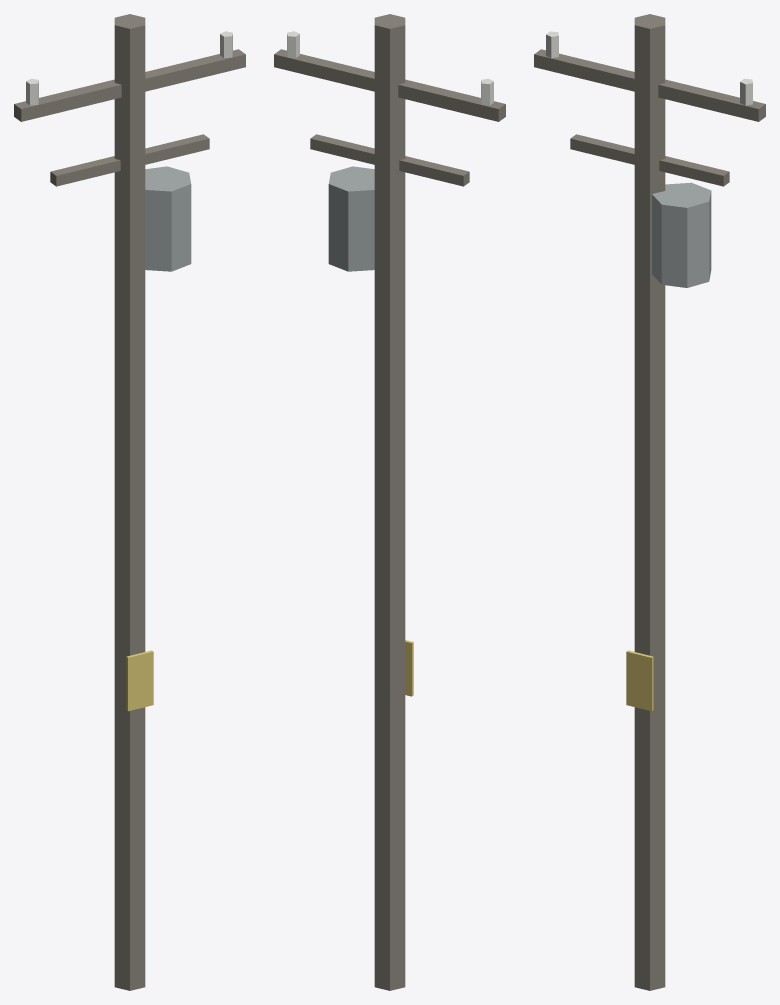
The model's file is pole.glb.
The picture shows the model from 3 angles, left to right: view 1: azimuth 30°, elevation 25°; view 2: azimuth 150°, elevation 25°; view 3: azimuth 330°, elevation 25°; orthographic projection.
Parts seen in each view (by area): view 1: pole; view 2: pole; view 3: pole.
Part boxes in pixels (left/top/right/bottom): pole: left=14, top=14, right=245, bottom=990; pole: left=274, top=14, right=505, bottom=990; pole: left=534, top=14, right=765, bottom=990.
Size of the model in its own units: 2.2 by 9 by 0.507.
